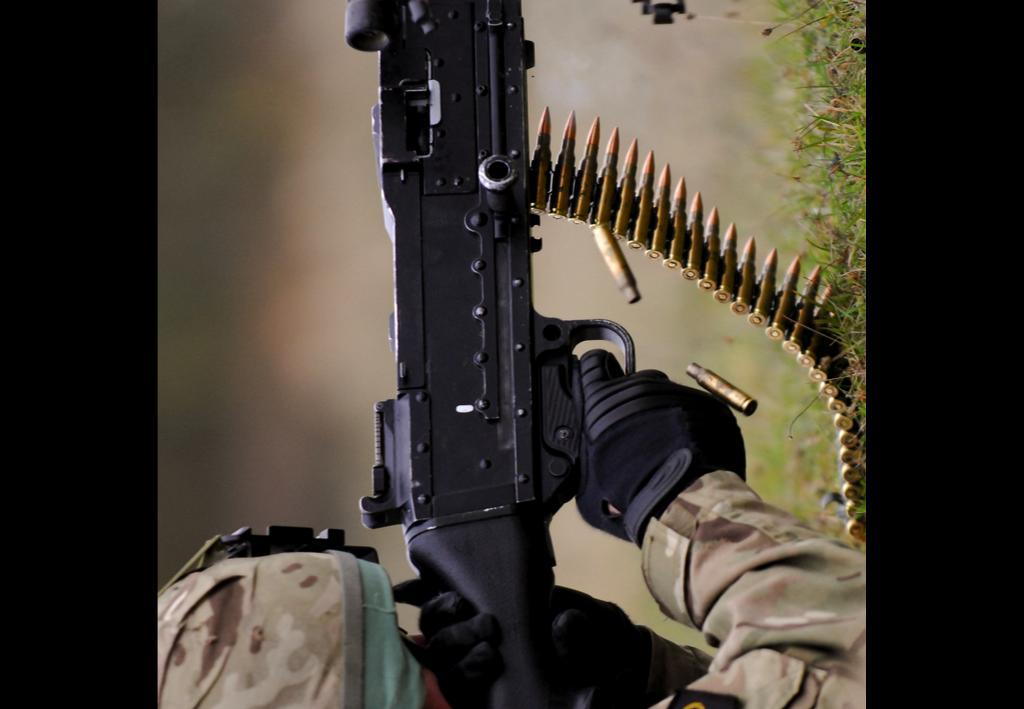gun: (341, 0, 736, 709)
